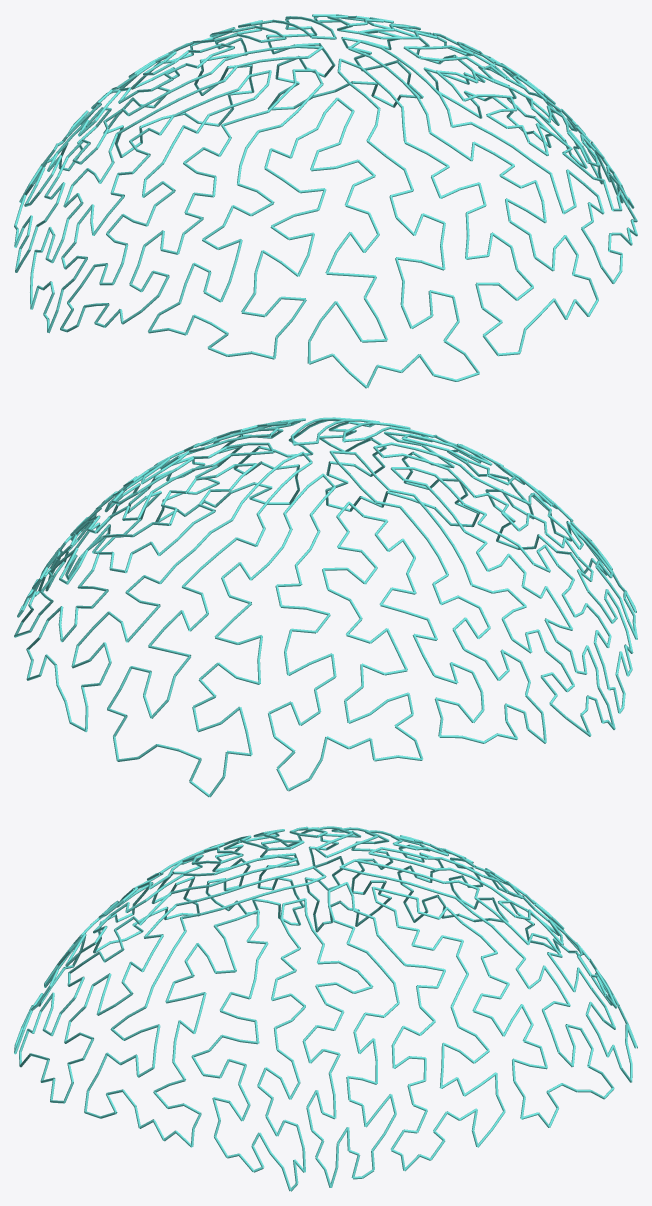
Rendered from example00.glb.
The picture shows the model from 3 angles, top to bottom: view 1: azimuth 30°, elevation 25°; view 2: azimuth 150°, elevation 25°; view 3: azimuth 270°, elevation 25°; orthographic projection. The views are drawn at different scales.
Parts seen in each view (by area): view 1: temp; view 2: temp; view 3: temp.
Boxes of the visible parts, left/top/right/bottom form: temp: left=14, top=14, right=637, bottom=388; temp: left=14, top=417, right=637, bottom=797; temp: left=14, top=826, right=637, bottom=1191.
Bounding box in the file's own units: 4.75 × 1.77 × 4.73.
